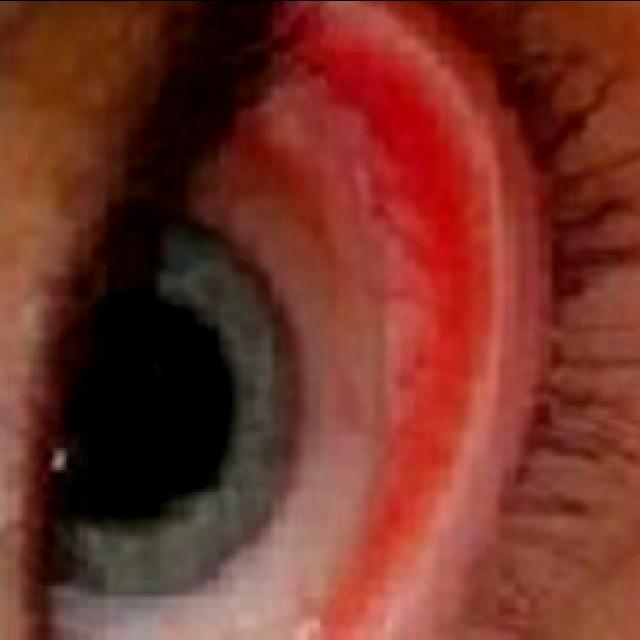conjunctiva_pallor: (252, 4, 503, 640)
